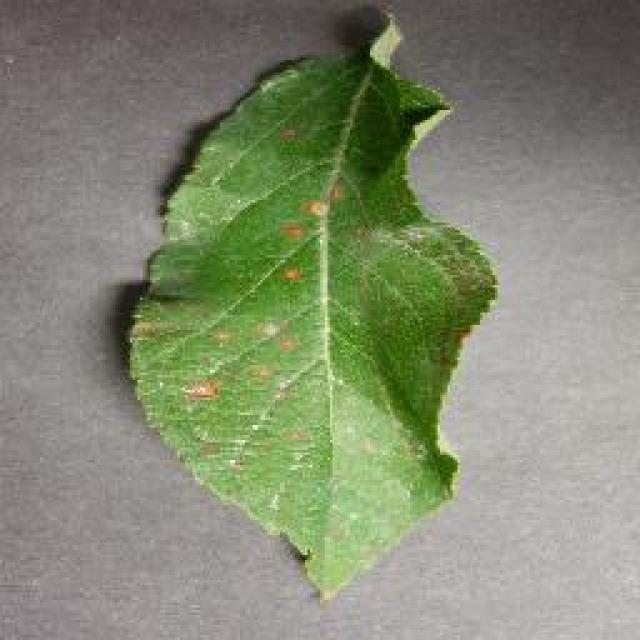apple scab disease: (122, 2, 500, 602)
